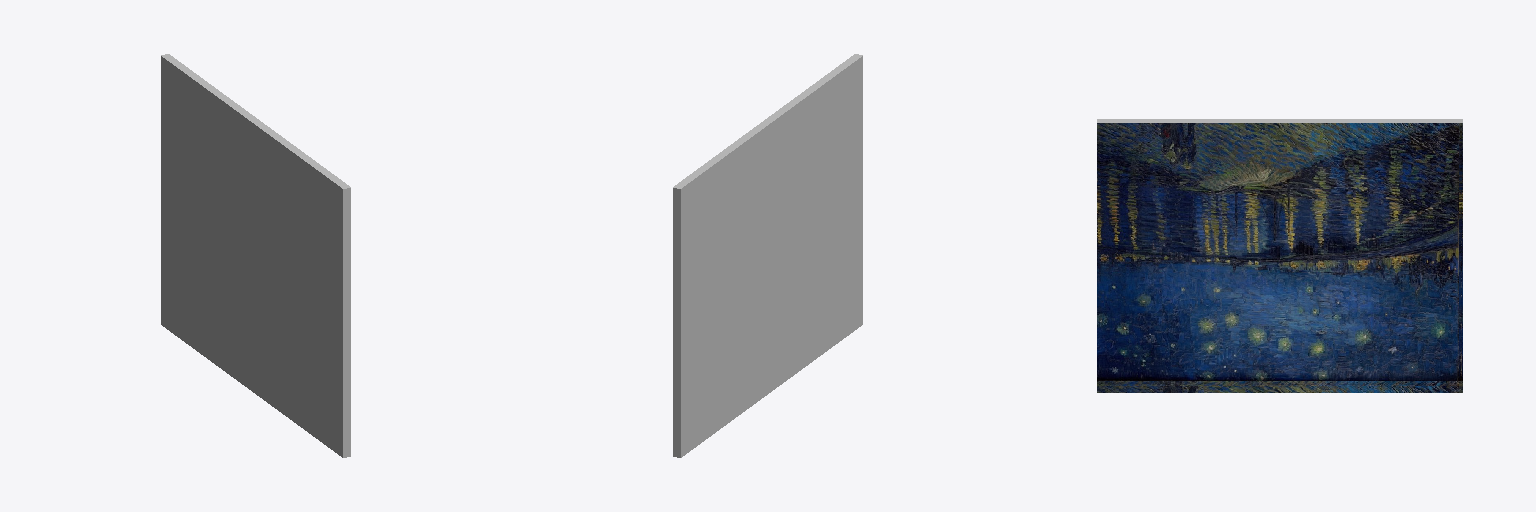
3 renders of one model, left to right at view 1: azimuth 30°, elevation 25°; view 2: azimuth 150°, elevation 25°; view 3: azimuth 270°, elevation 25°, orthographic.
Parts seen in each view (by area): view 1: Cube; view 2: Cube; view 3: Cube.
Boxes of the visible parts, <box> form: Cube: <box>161,54,350,457</box>; Cube: <box>673,54,862,457</box>; Cube: <box>1097,119,1462,392</box>.
Bounding box in the file's own units: 0.02 × 0.65 × 0.8.
Materials: 2 (1 with a texture image).